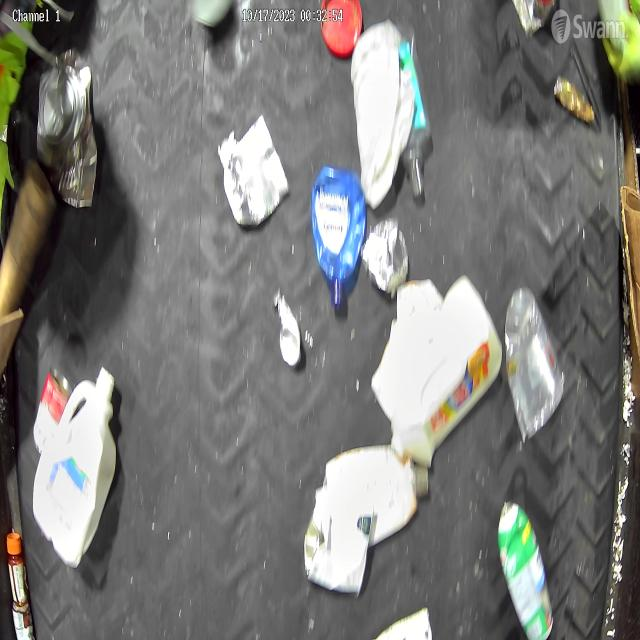can: (36, 65, 96, 207), (496, 499, 554, 640), (222, 114, 290, 225), (364, 215, 408, 293), (32, 366, 73, 443), (276, 294, 302, 370)
milk_jug: (390, 274, 502, 465), (34, 369, 121, 568), (350, 45, 415, 209)
non_white_jug: (310, 168, 364, 309)
plastic_bottle: (402, 29, 432, 206)
